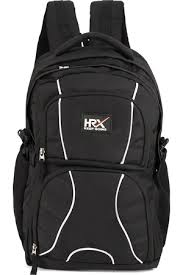backpack: (12, 0, 170, 274)
